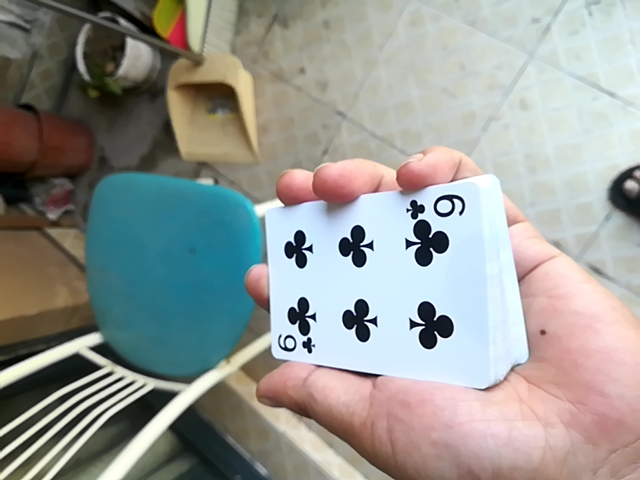mh 6: (242, 176, 528, 387)
